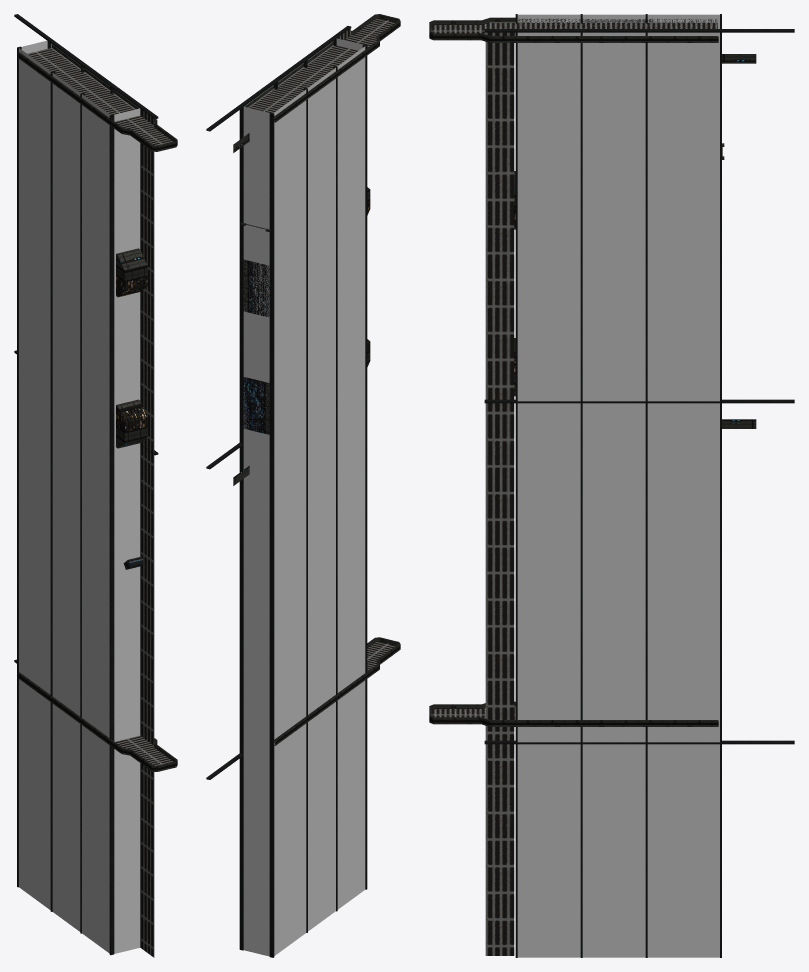
Rendered from Ultra_wire3.fbx.
3 renders of one model, left to right at view 1: azimuth 30°, elevation 25°; view 2: azimuth 150°, elevation 25°; view 3: azimuth 270°, elevation 25°, orthographic. The views are drawn at different scales.
Visible parts, largest first — view 1: polySurface523; view 2: polySurface523; view 3: polySurface523.
Part boxes in pixels (left/top/right/bottom): polySurface523: left=14, top=14, right=177, bottom=957; polySurface523: left=206, top=14, right=400, bottom=957; polySurface523: left=429, top=14, right=794, bottom=957.
Size of the model in its own units: 2.21 by 50.07 by 17.87.
